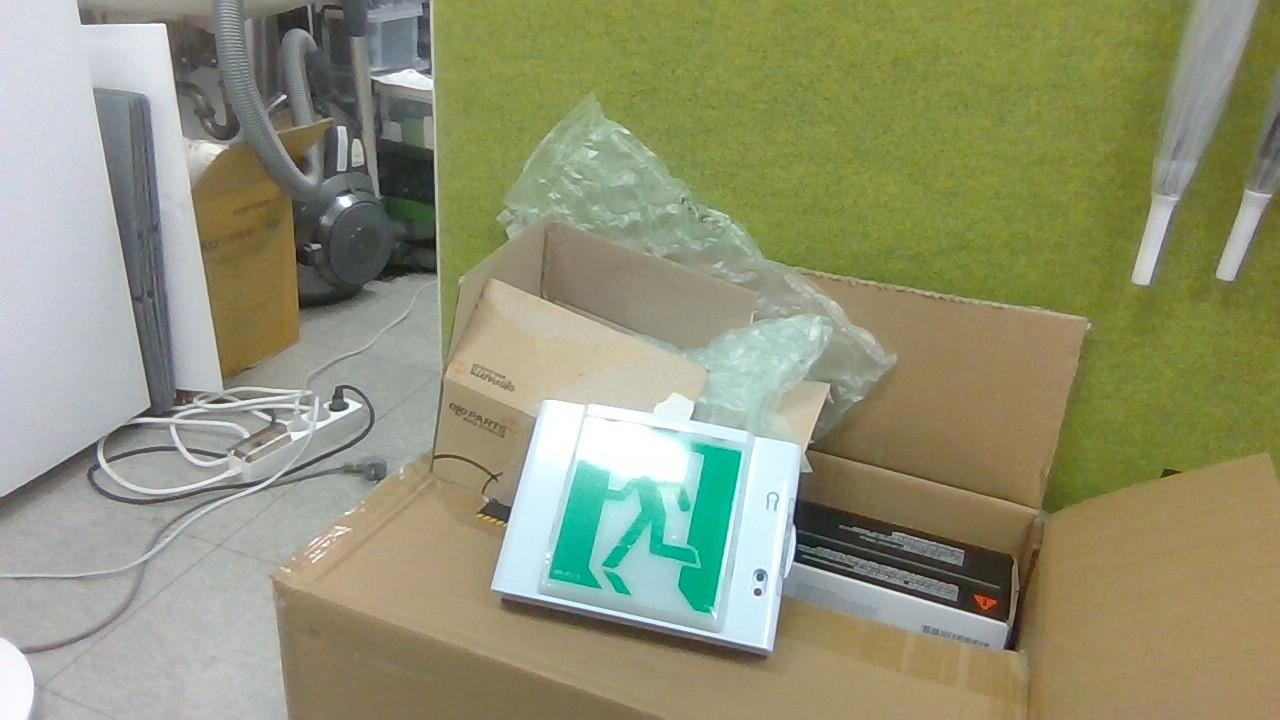emergency_exit: (488, 397, 802, 658)
